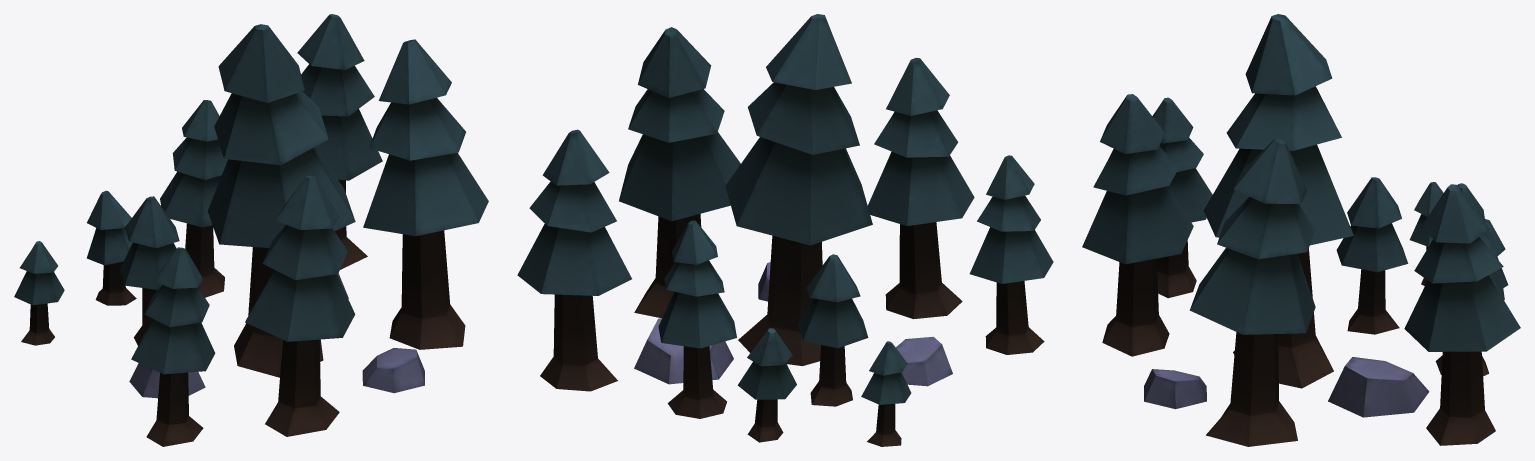
Rendered from tile_wood_4_lod0.fbx.
The picture shows the model from 3 angles, left to right: view 1: azimuth 30°, elevation 25°; view 2: azimuth 150°, elevation 25°; view 3: azimuth 270°, elevation 25°; orthographic projection.
Parts seen in each view (by area): view 1: wood_4_lod0; view 2: wood_4_lod0; view 3: wood_4_lod0.
Part boxes in pixels (x1=…): wood_4_lod0: x1=14, y1=14, x2=488, y2=446; wood_4_lod0: x1=517, y1=14, x2=1053, y2=446; wood_4_lod0: x1=1082, y1=14, x2=1520, y2=446.
Size of the model in its own units: 0.0553 by 0.0454 by 0.0536.
